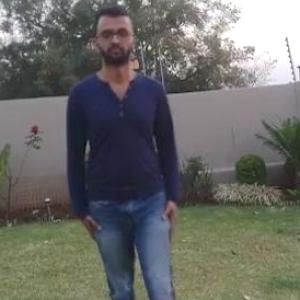follow: (69, 10, 184, 299)
